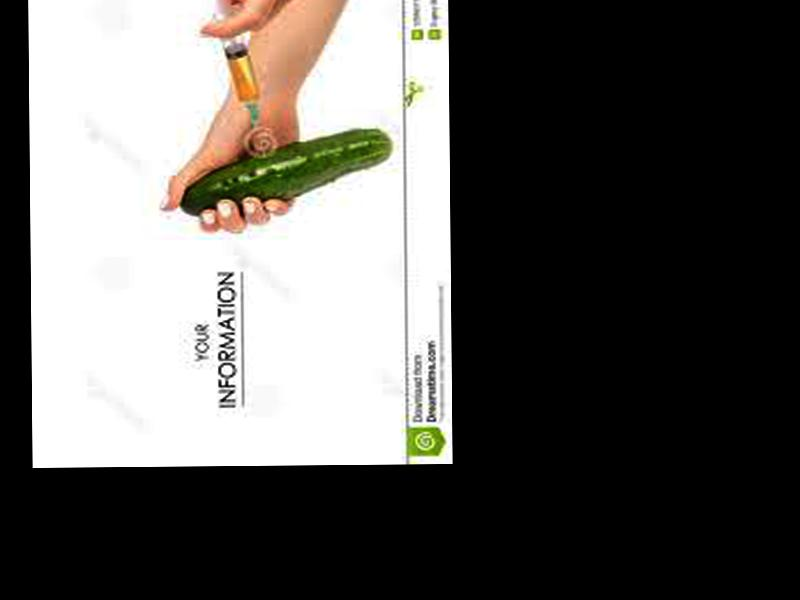Cucumber: (179, 128, 392, 215)
